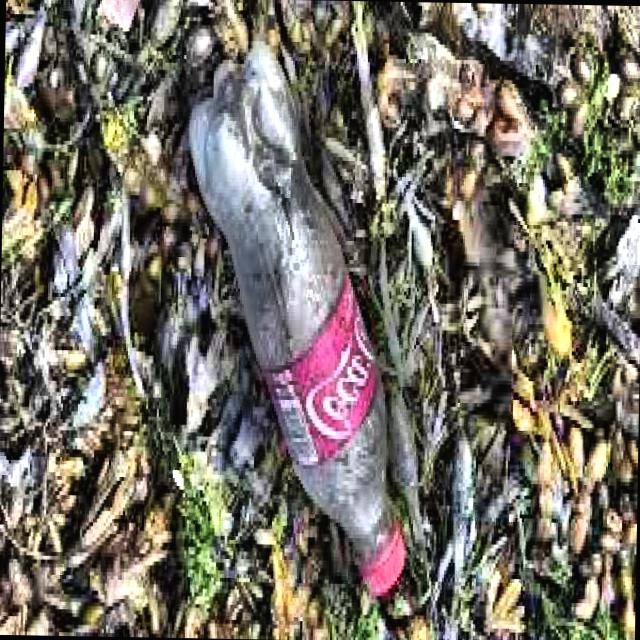plastic bottle: (189, 40, 405, 595)
